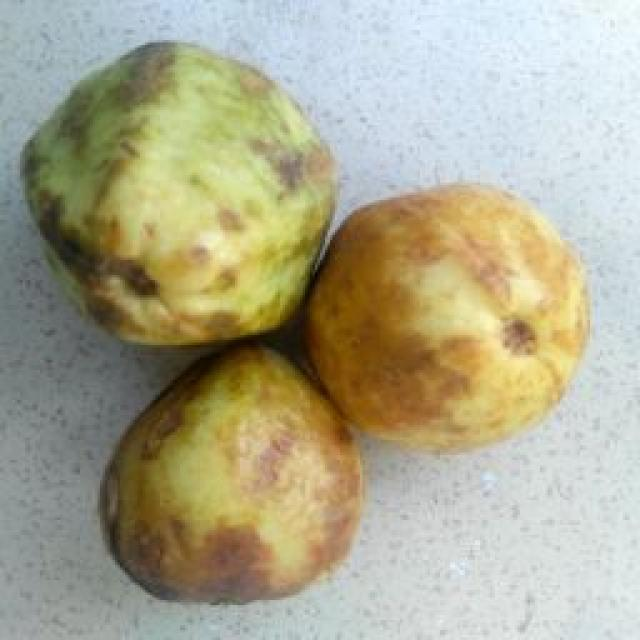Bad_Guava: (305, 184, 589, 448), (104, 345, 362, 601)
